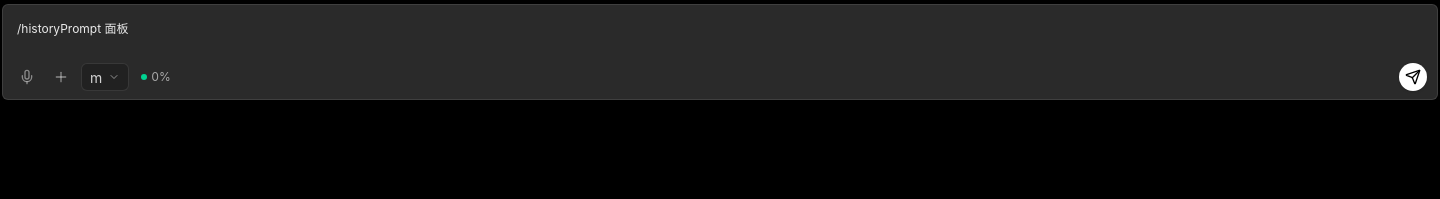
Test: AgentInput /historyPrompt 历史提示词面板 › /historyPrompt 后的文本作为模糊查询过滤历史
The image size is (1440, 199).
Focus the field with class "cm-content" at (73, 28), box [17,21,128,36]
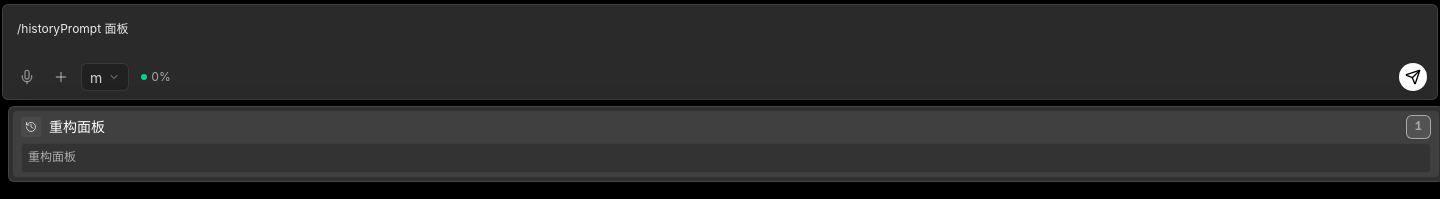
Check: the number of options is 1, box [13,111,1439,177]
Check: the option shows "重构面板", box [13,111,1439,177]
Check: the text "1" is shown, box [1415,121,1422,133]
